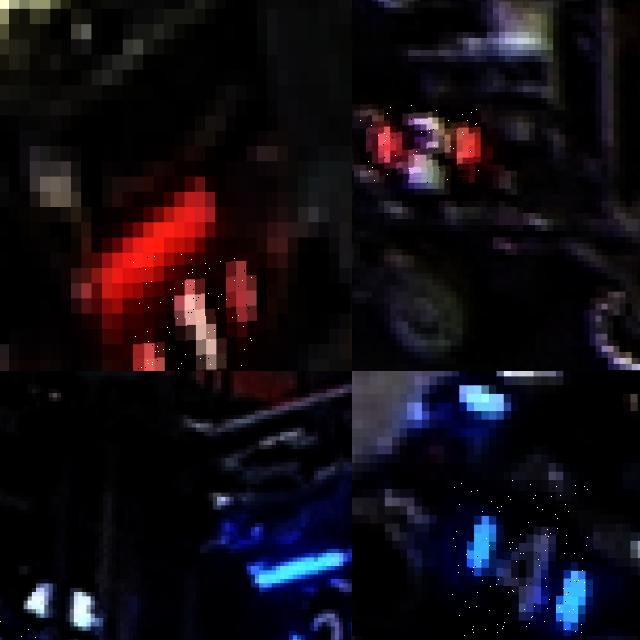B4: (452, 480, 593, 636)
R1: (133, 252, 257, 371)
R2: (360, 104, 481, 183)
